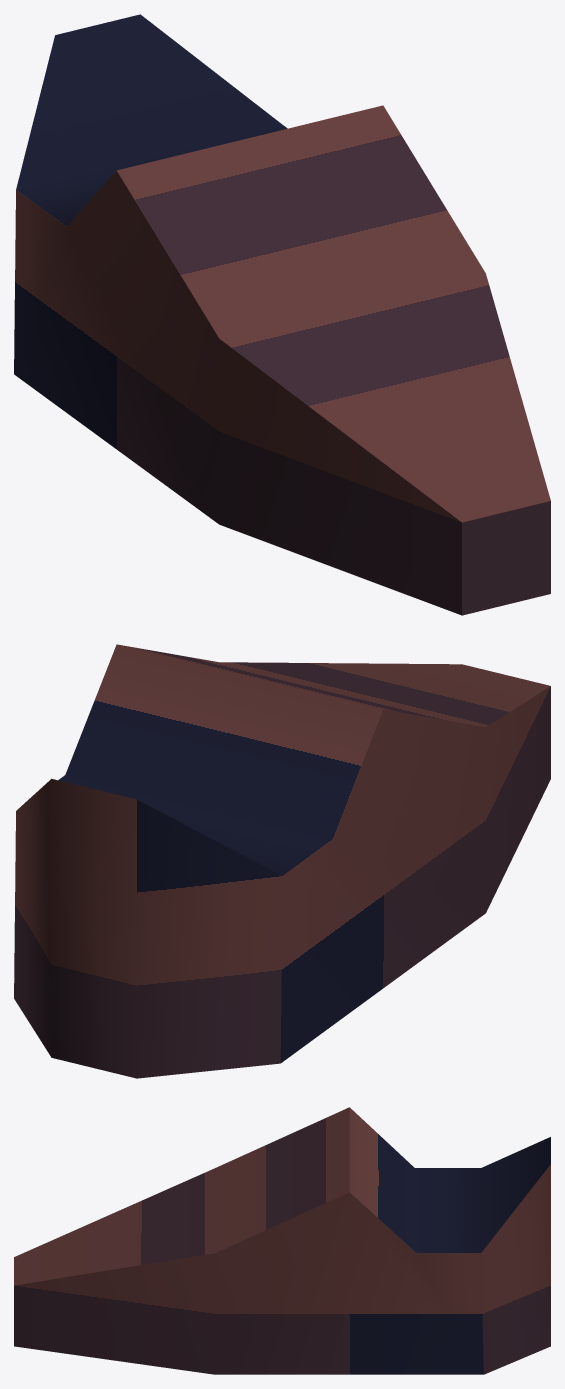
Rendered from SM_Shoe.fbx.
3 views of the same model, one above another, from view 1: azimuth 30°, elevation 25°; view 2: azimuth 150°, elevation 25°; view 3: azimuth 270°, elevation 25° (orthographic). The views are drawn at different scales.
Parts seen in each view (by area): view 1: Shoe.001; view 2: Shoe.001; view 3: Shoe.001.
Boxes of the visible parts, left/top/right/bottom form: Shoe.001: left=14, top=14, right=550, bottom=615; Shoe.001: left=14, top=644, right=550, bottom=1078; Shoe.001: left=14, top=1107, right=550, bottom=1374.
Size of the model in its own units: 9.38 by 9.38 by 25.
